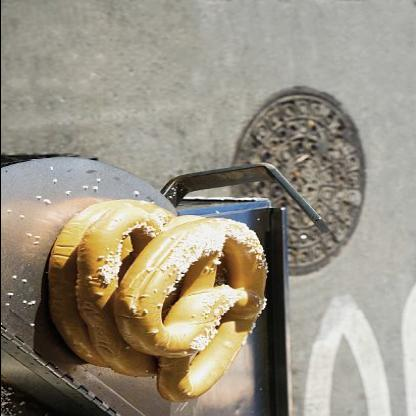manholes: (216, 81, 384, 281)
